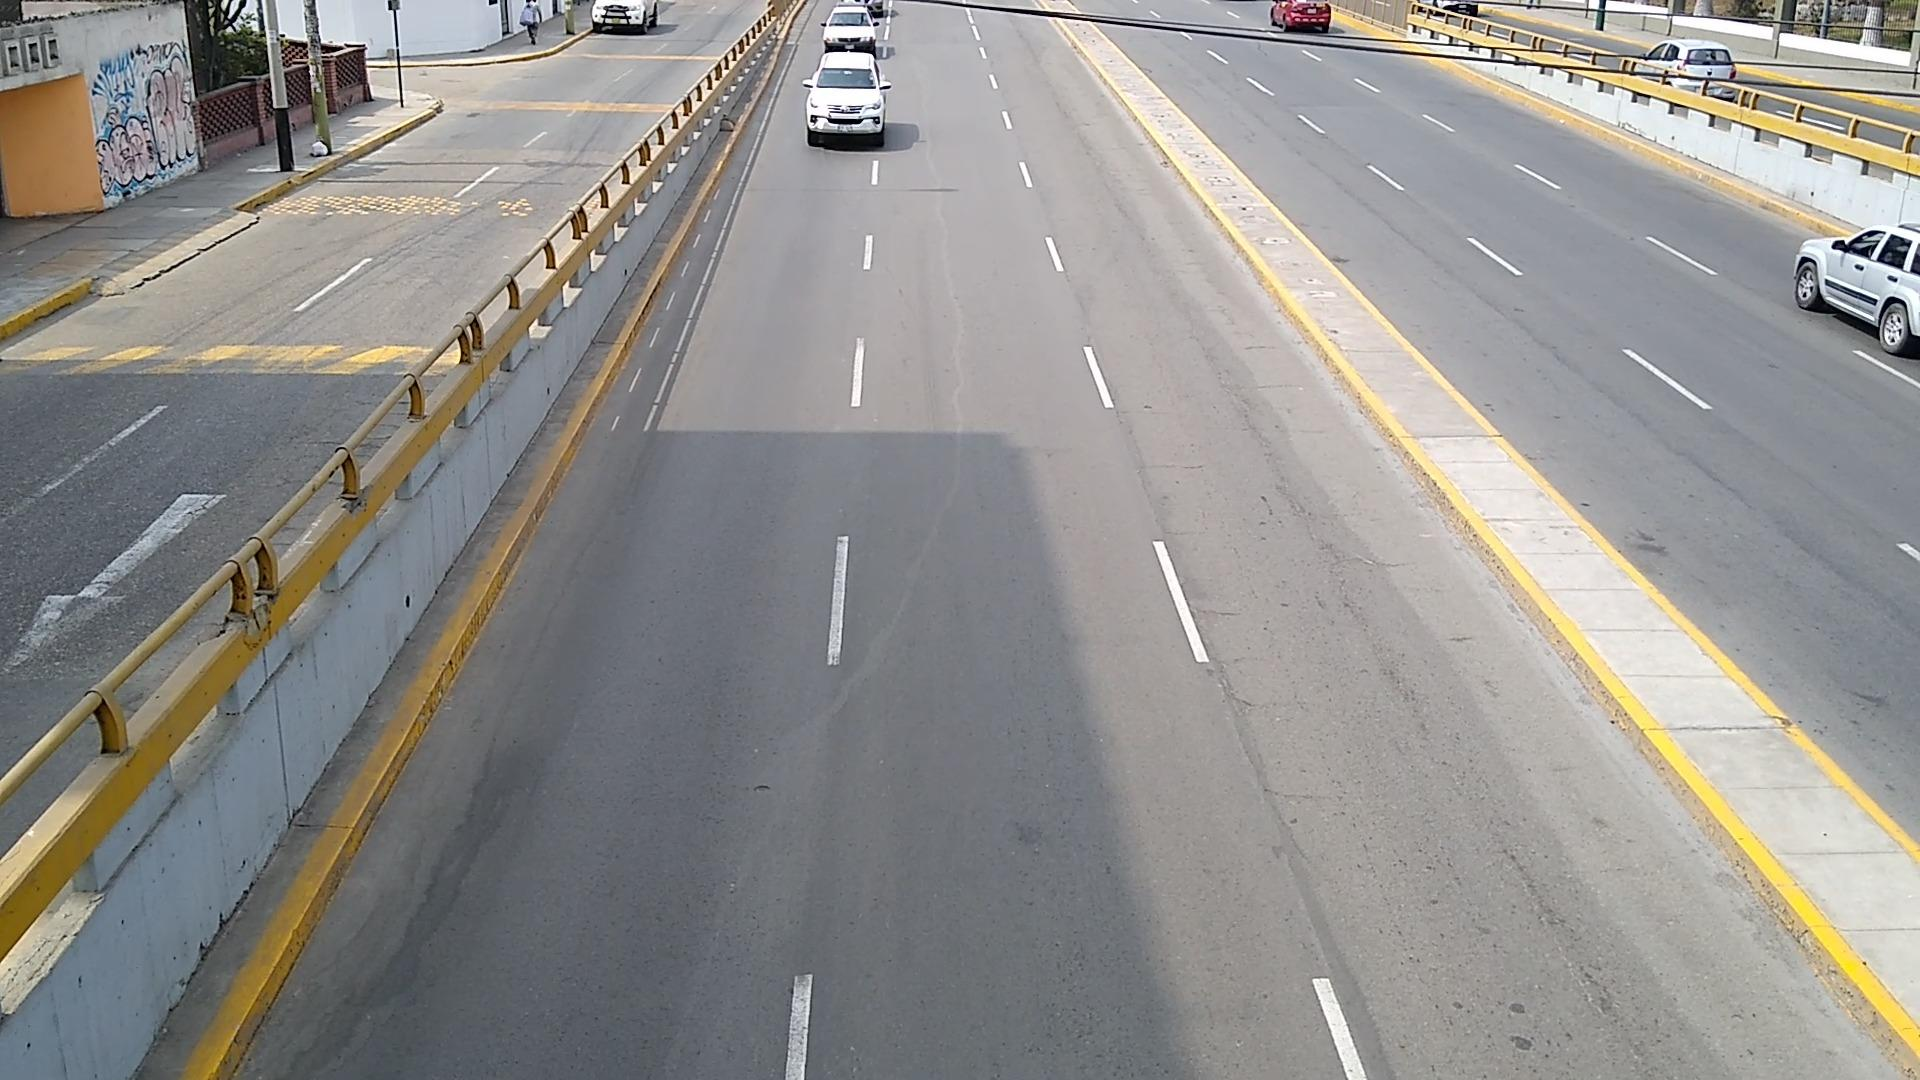car: (1792, 223, 1920, 356), (803, 53, 889, 146), (825, 8, 877, 53), (538, 0, 563, 22)
